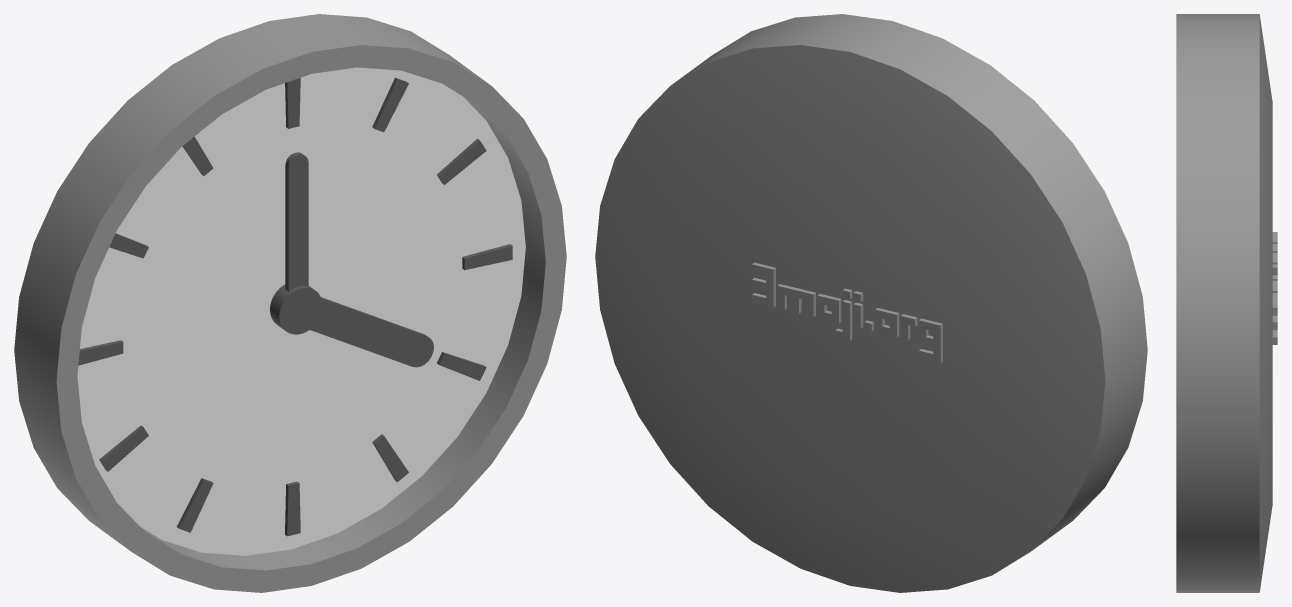
Rendered from four_oclock.fbx.
The picture shows the model from 3 angles, left to right: view 1: azimuth 30°, elevation 25°; view 2: azimuth 150°, elevation 25°; view 3: azimuth 270°, elevation 25°; orthographic projection.
Parts seen in each view (by area): view 1: Circle.2453; view 2: Circle.2453; view 3: Circle.2453.
Part boxes in pixels (x1=…): Circle.2453: x1=14, y1=14, x2=566, y2=592; Circle.2453: x1=595, y1=14, x2=1147, y2=592; Circle.2453: x1=1176, y1=14, x2=1277, y2=592.
Size of the model in its own units: 233 by 233 by 40.69.
1 material, 1 textured.
